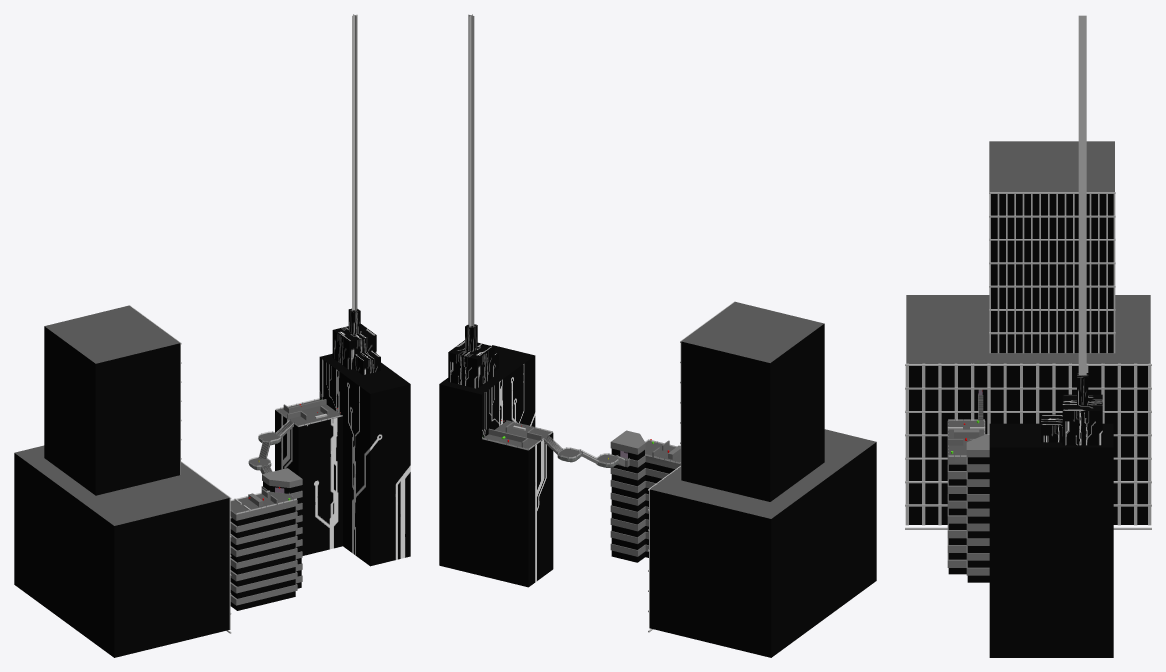
Rendered from Level_2_Export.fbx.
The picture shows the model from 3 angles, left to right: view 1: azimuth 30°, elevation 25°; view 2: azimuth 150°, elevation 25°; view 3: azimuth 270°, elevation 25°; orthographic projection. The views are drawn at different scales.
Visible parts, largest first — view 1: House_Start, House_Goal, House_3, Top, Yeet, Roof; view 2: House_Start, House_Goal, House_3, Top, Yeet; view 3: House_Start, House_Goal, House_3, Yeet, Top, Roof, Walls.
Boxes of the visible parts, bbox=[...] form: House_Start: bbox=[14, 305, 231, 657]; House_Goal: bbox=[275, 353, 410, 566]; House_3: bbox=[230, 486, 302, 610]; Top: bbox=[332, 308, 380, 375]; Yeet: bbox=[352, 14, 357, 310]; Roof: bbox=[262, 468, 302, 487]; House_Start: bbox=[648, 301, 876, 657]; House_Goal: bbox=[439, 345, 553, 587]; House_3: bbox=[610, 440, 680, 562]; Top: bbox=[448, 324, 498, 388]; Yeet: bbox=[468, 14, 474, 326]; House_Start: bbox=[905, 141, 1151, 529]; House_Goal: bbox=[989, 423, 1113, 657]; House_3: bbox=[947, 420, 989, 582]; Yeet: bbox=[1078, 15, 1086, 375]; Top: bbox=[1041, 373, 1102, 445]; Roof: bbox=[966, 434, 989, 457]; Walls: bbox=[947, 427, 985, 445].
Size of what is drawn, in the model's own units: 28581 by 42772 by 15150.
